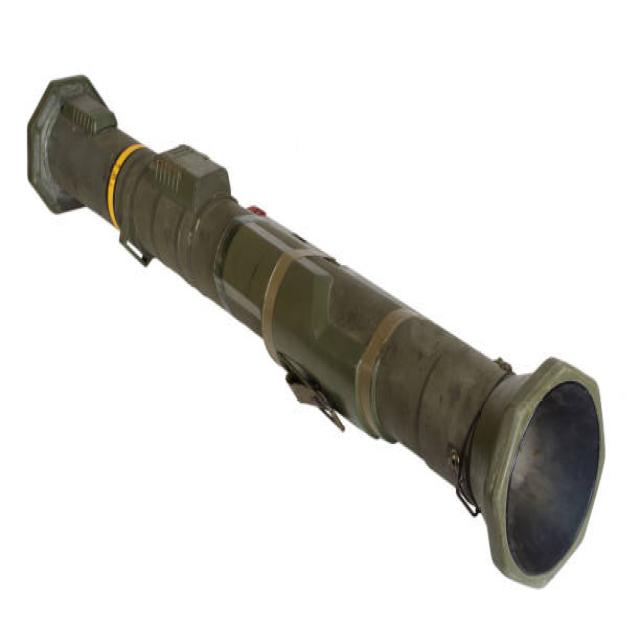bazooka: (25, 68, 620, 595)
